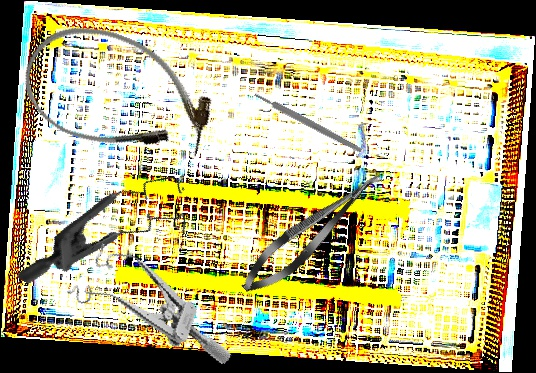Cannula: (9, 7, 227, 180)
Micro Scissor: (232, 161, 393, 304)
Scalpel Handle: (253, 91, 363, 154)
Speculum: (15, 133, 208, 340), (59, 236, 254, 367)
